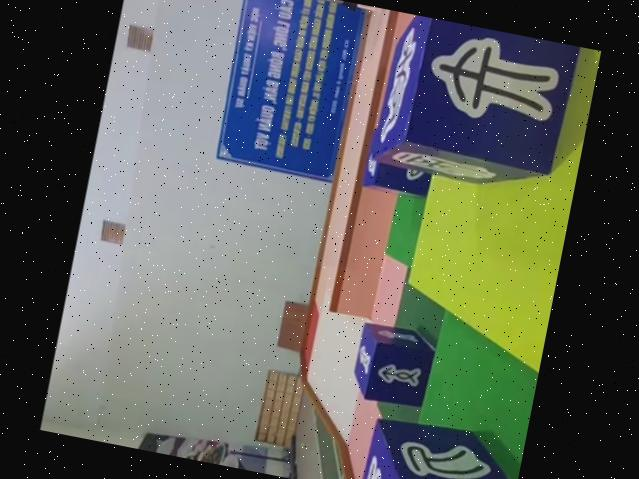R2 Fake Blue: (364, 10, 584, 202), (353, 414, 523, 479)
R2 Real Blue: (348, 322, 439, 414)
